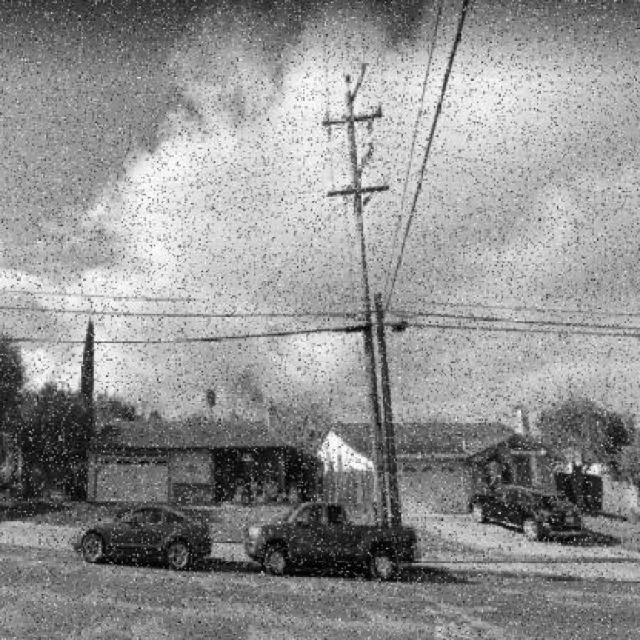pole: (312, 37, 428, 606)
